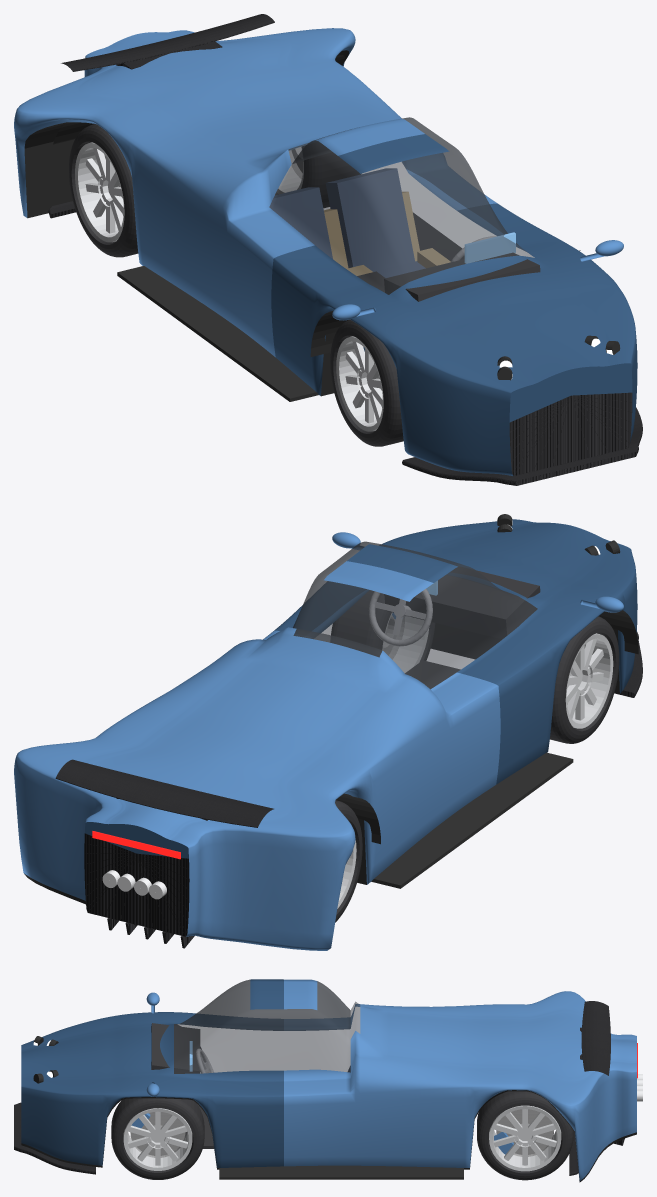
The model's file is bugatti-chiron.glb.
3 renders of one model, top to bottom at view 1: azimuth 30°, elevation 25°; view 2: azimuth 150°, elevation 25°; view 3: azimuth 270°, elevation 25°, orthographic. The views are drawn at different scales.
Parts seen in each view (by area): view 1: Body_PrimaryPaint, Body_SecondaryPaint, Glass_Windows, Carbon_Exterior, Interior_Seats, WheelWells, Underbody, Rim_RR, Tire_FR, Rim_FR, Tire_RR, Interior_Dashboard (+3 smaller); view 2: Body_PrimaryPaint, Body_SecondaryPaint, Glass_Windows, Carbon_Exterior, WheelWells, Interior_Dashboard, Rim_FR, Tire_FR, Underbody, Tire_FL, Interior_SteeringWheel, Rim_FL (+4 smaller); view 3: Body_PrimaryPaint, Body_SecondaryPaint, Glass_Windows, WheelWells, Carbon_Exterior, Tire_FL, Rim_RL, Tire_RL, Rim_FL, Interior_Dashboard, Underbody, BrakeDisc_RL (+1 smaller).
Boxes of the visible parts, x1,y1,x2,y2 form: Body_PrimaryPaint: (14, 28, 623, 357); Body_SecondaryPaint: (271, 134, 637, 475); Glass_Windows: (269, 117, 534, 294); Carbon_Exterior: (48, 14, 642, 485); Interior_Seats: (269, 168, 425, 277); WheelWells: (53, 122, 580, 401); Underbody: (24, 50, 348, 396); Rim_RR: (75, 142, 124, 242); Tire_FR: (330, 319, 403, 446); Rim_FR: (336, 336, 383, 431); Tire_RR: (69, 124, 138, 257); Interior_Dashboard: (384, 252, 540, 301); Body_PrimaryPaint: (14, 532, 623, 950); Body_SecondaryPaint: (85, 519, 637, 858); Glass_Windows: (293, 541, 537, 688); Carbon_Exterior: (55, 632, 642, 948); WheelWells: (336, 610, 638, 888); Interior_Dashboard: (384, 566, 540, 639); Rim_FR: (565, 633, 613, 728); Tire_FR: (550, 616, 619, 743); Underbody: (24, 623, 619, 936); Tire_FL: (331, 590, 435, 661); Interior_SteeringWheel: (369, 589, 432, 646); Rim_FL: (382, 612, 429, 672); Body_PrimaryPaint: (146, 979, 636, 1180); Body_SecondaryPaint: (21, 979, 283, 1167); Glass_Windows: (174, 979, 360, 1073); WheelWells: (219, 1165, 463, 1179); Carbon_Exterior: (14, 1001, 624, 1175); Tire_FL: (111, 1098, 204, 1179); Rim_RL: (489, 1105, 561, 1171); Tire_RL: (477, 1091, 573, 1180); Rim_FL: (123, 1108, 192, 1170); Interior_Dashboard: (151, 1023, 200, 1073); Underbody: (21, 1090, 636, 1182); BrakeDisc_RL: (496, 1109, 553, 1156).
Bounding box in the file's own units: 2.04 × 1.21 × 4.64.
17 materials, 2 textured.
